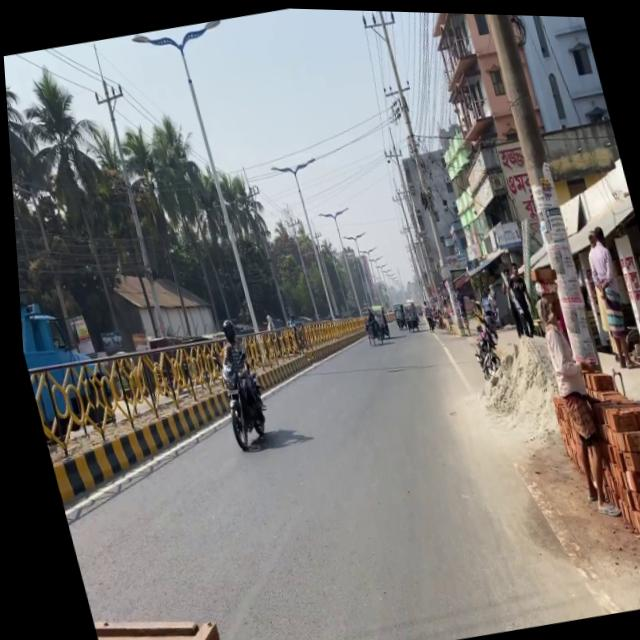Construction-barrier: (32, 378, 245, 509)
Fallen-tree: (209, 351, 272, 452), (462, 316, 501, 379), (357, 312, 381, 345)
Garbage: (537, 354, 640, 571)
Garbage-bin: (527, 284, 626, 518), (575, 221, 636, 367), (202, 314, 264, 422)
Light-pole: (475, 11, 600, 370)
Pothole: (435, 270, 640, 628)
Traffic-cone: (14, 276, 117, 443)
